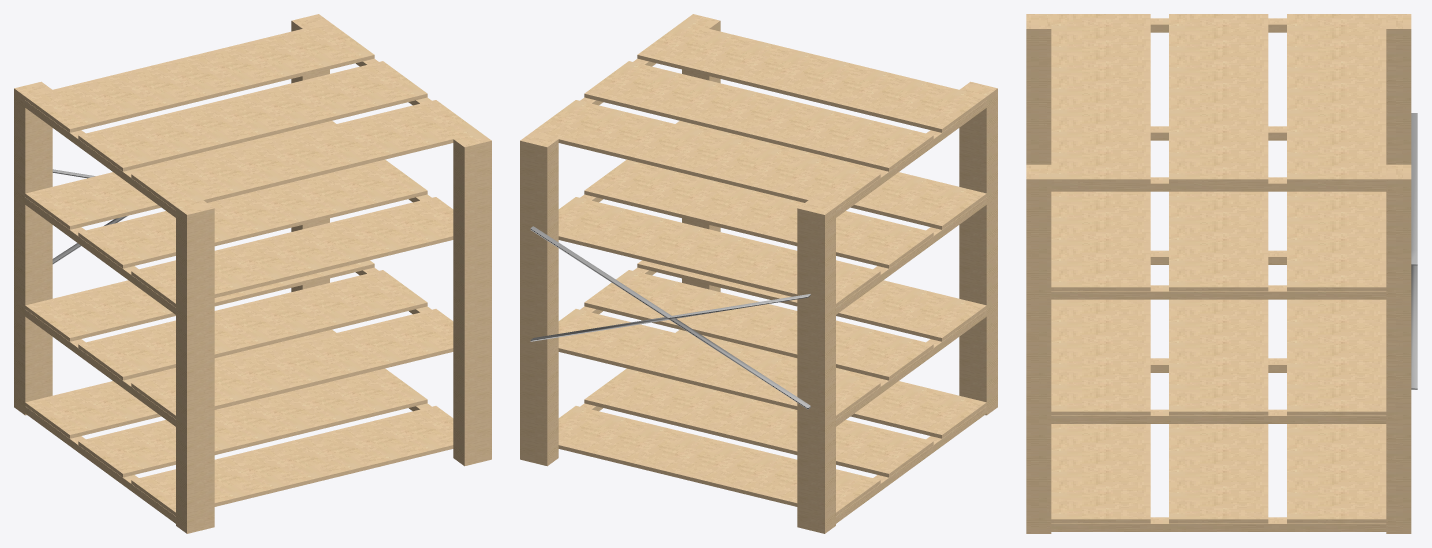
File: sh-contrib-shelves-storage-wood.glb
3 views of the same model, side by side, from view 1: azimuth 30°, elevation 25°; view 2: azimuth 150°, elevation 25°; view 3: azimuth 270°, elevation 25° (orthographic). The views are drawn at different scales.
Visible parts, largest first — view 1: 8_8; view 2: 8_8, 25_25_25_25.002; view 3: 8_8, 25_25_25_25.002.
Part boxes in pixels (x1,y1,x2,y2): 8_8: [14, 14, 491, 533]; 8_8: [520, 14, 997, 533]; 25_25_25_25.002: [530, 226, 810, 409]; 8_8: [1026, 14, 1411, 533]; 25_25_25_25.002: [1411, 113, 1417, 389].
Size of the model in its own units: 1 by 1 by 1.
2 materials, 1 textured.
